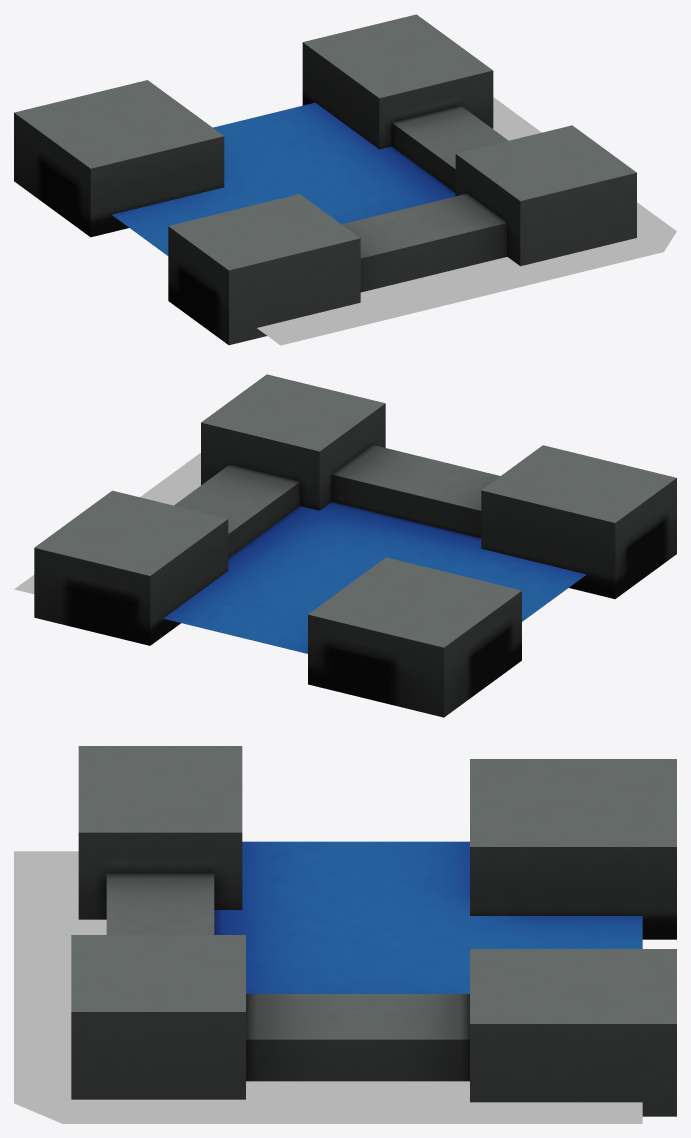
Rendered from asia_river_corner.FBX.
The picture shows the model from 3 angles, top to bottom: view 1: azimuth 30°, elevation 25°; view 2: azimuth 150°, elevation 25°; view 3: azimuth 270°, elevation 25°; orthographic projection. The views are drawn at different scales.
Parts seen in each view (by area): view 1: asia_river_corner, asia_river_corner_soft_shadow; view 2: asia_river_corner, asia_river_corner_soft_shadow; view 3: asia_river_corner, asia_river_corner_soft_shadow.
Boxes of the visible parts, bbox=[...] form: asia_river_corner: bbox=[14, 14, 636, 345]; asia_river_corner_soft_shadow: bbox=[257, 97, 676, 345]; asia_river_corner: bbox=[34, 374, 676, 717]; asia_river_corner_soft_shadow: bbox=[14, 453, 200, 594]; asia_river_corner: bbox=[71, 746, 676, 1116]; asia_river_corner_soft_shadow: bbox=[14, 851, 642, 1123].
Size of the model in its own units: 1190 by 195 by 1146.
